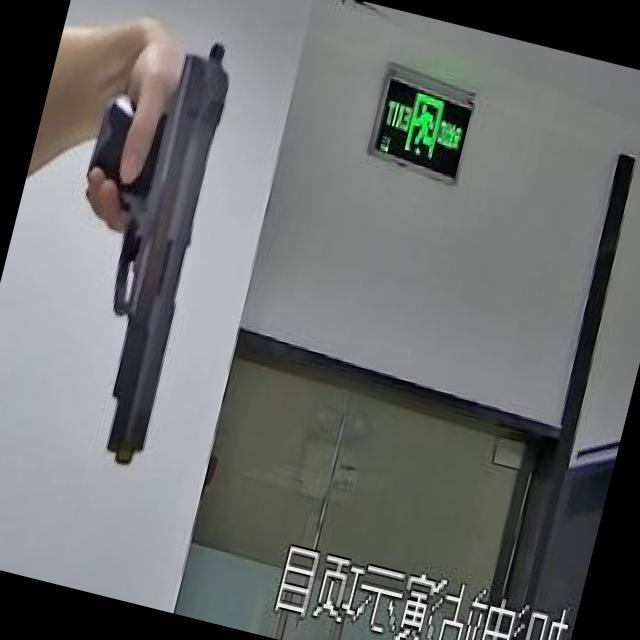Guns: (0, 0, 281, 489)
